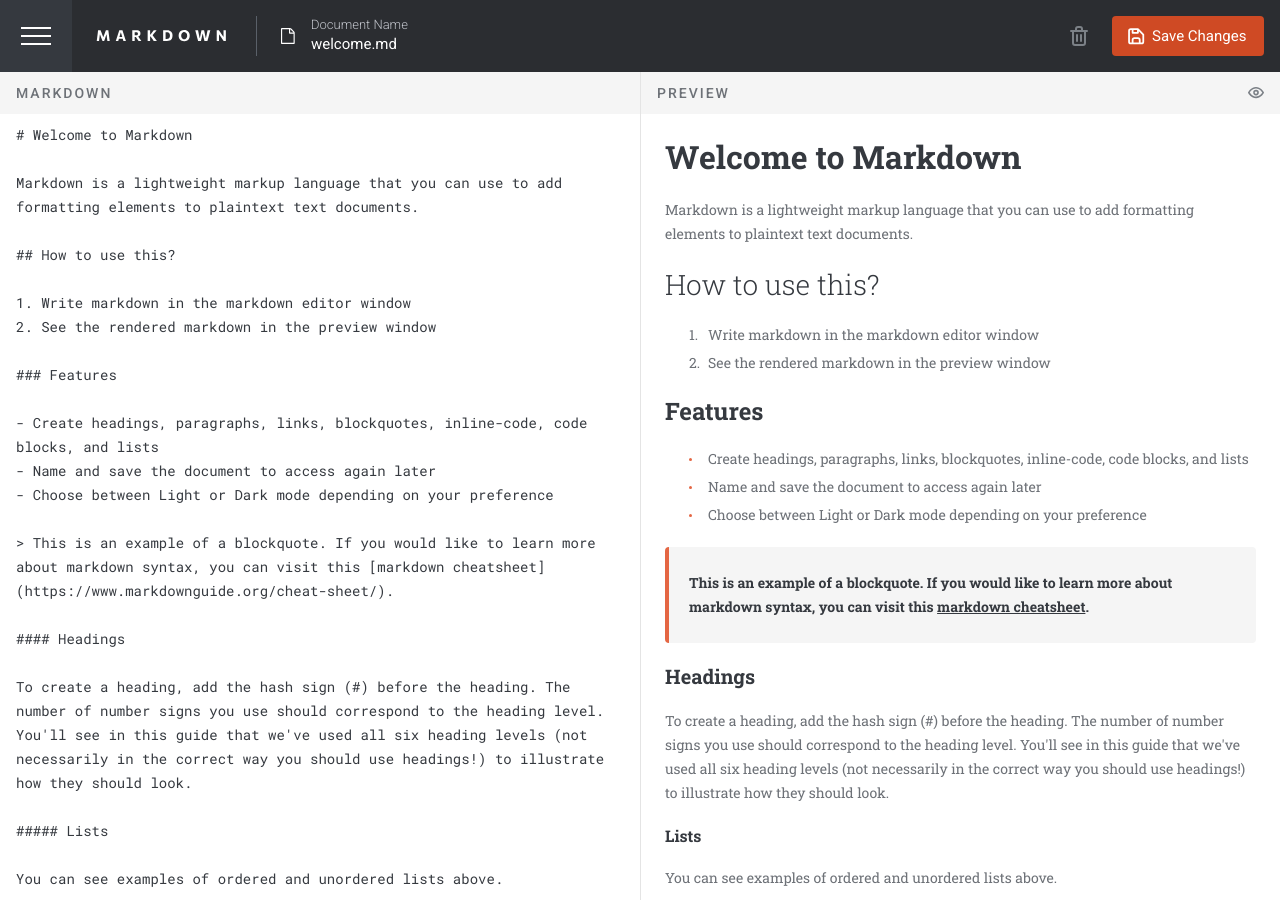
Test case: MarkdownApp delete dialog › keeps the document when Escape cancels
Click the button named "Delete document": (1079, 36) x1=1058 y1=14 x2=1100 y2=58
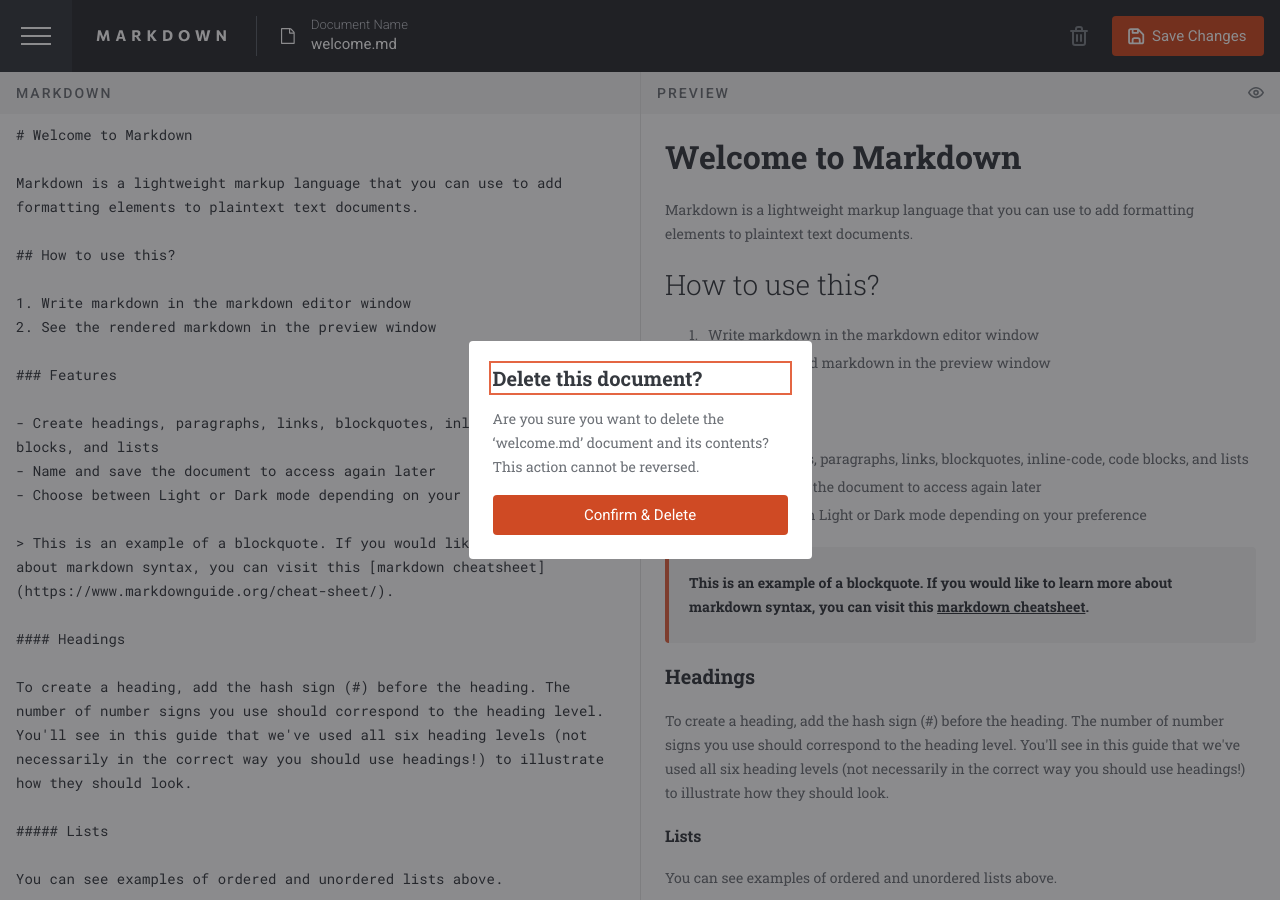
Press Escape
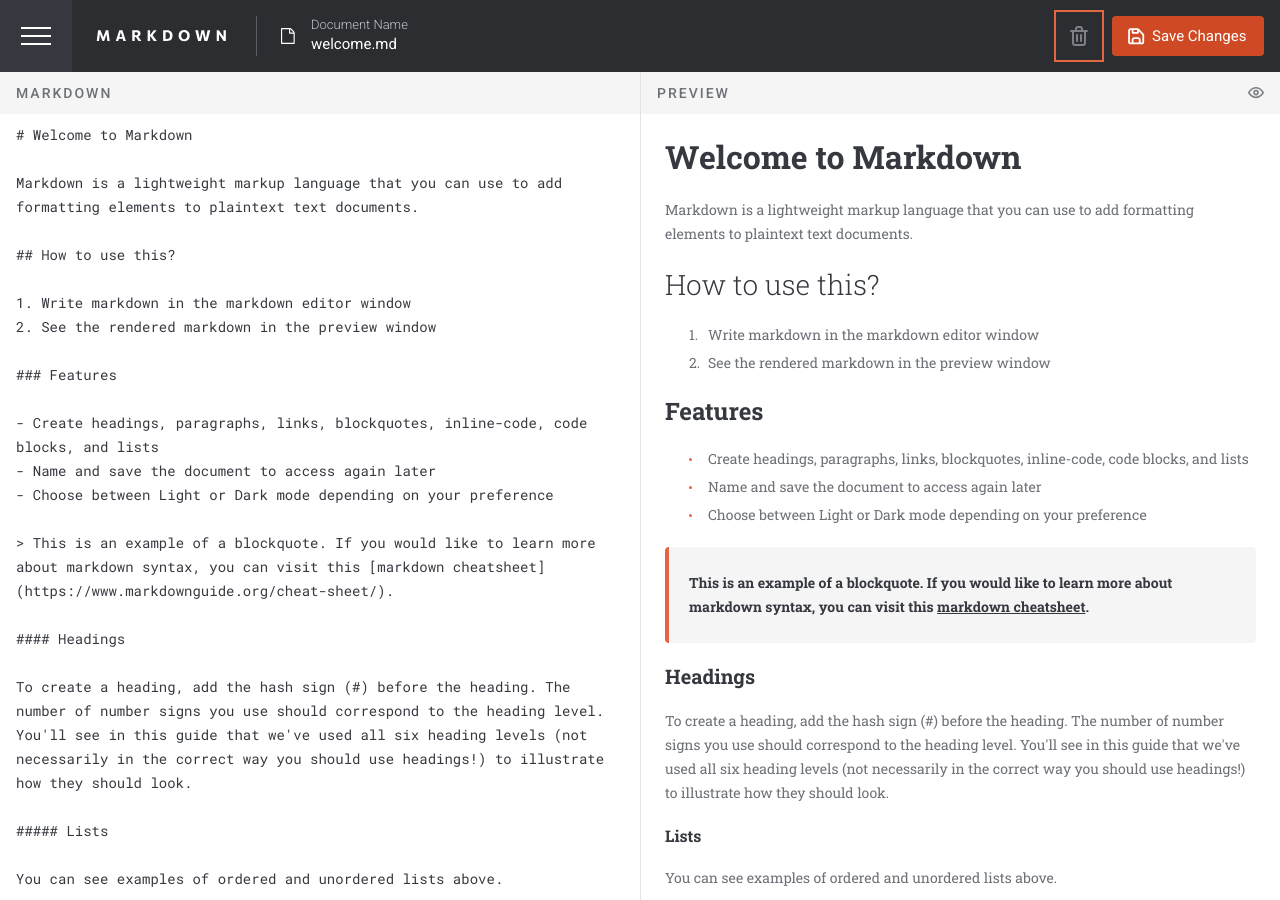
Check: the field labelled "Document Name" holds "welcome.md", box x1=311 y1=35 x2=711 y2=55
Check: the dialog is gone
